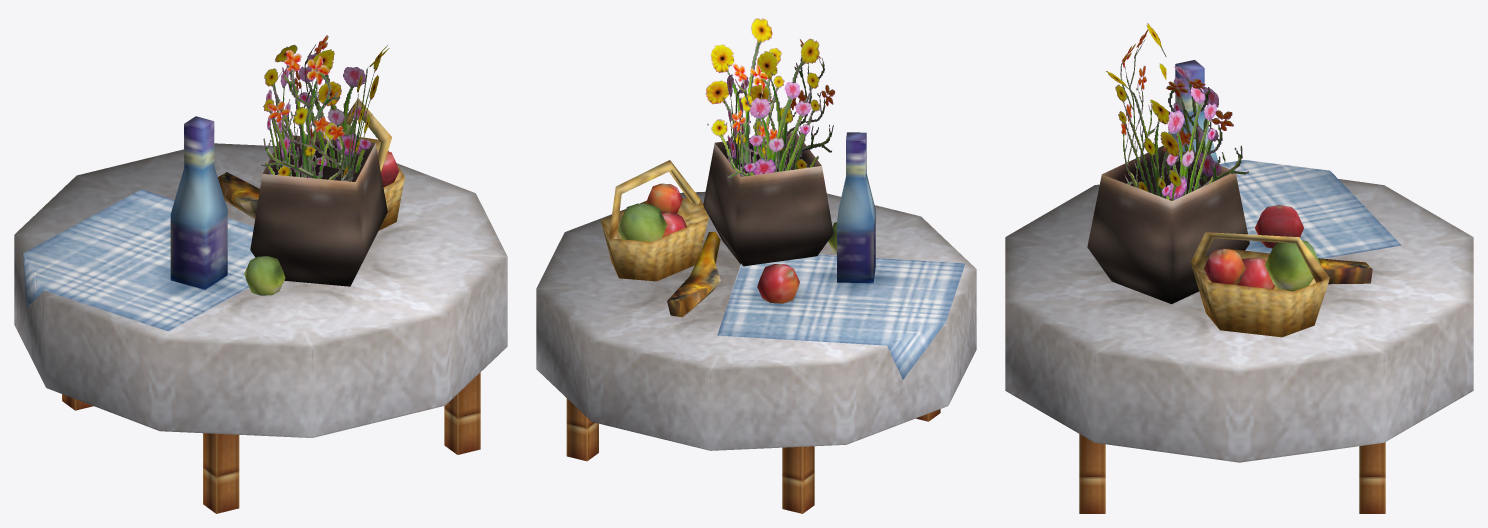
File: a_SCtable07.glb
3 renders of one model, left to right at view 1: azimuth 30°, elevation 25°; view 2: azimuth 150°, elevation 25°; view 3: azimuth 270°, elevation 25°, orthographic. The views are drawn at different scales.
Visible parts, largest first — view 1: a_SCtable07; view 2: a_SCtable07; view 3: a_SCtable07.
Part boxes in pixels (bbox=[...]): a_SCtable07: bbox=[14, 35, 507, 513]; a_SCtable07: bbox=[536, 18, 976, 513]; a_SCtable07: bbox=[1005, 23, 1473, 513].
Bounding box in the file's own units: 1.87 × 1.75 × 1.78.
Materials: 3 (3 with a texture image).
